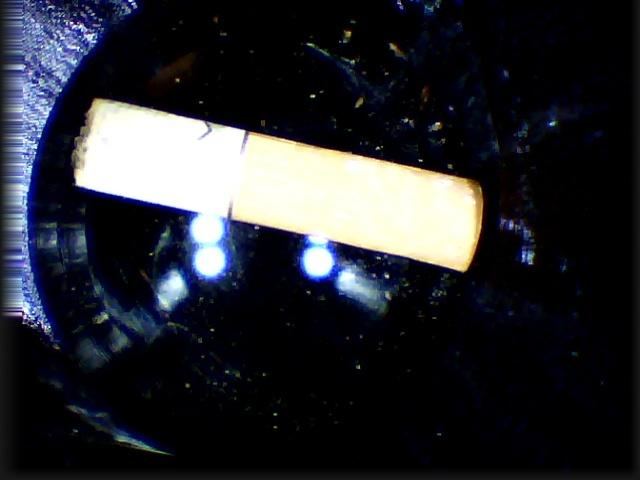megot: (57, 85, 491, 290)
